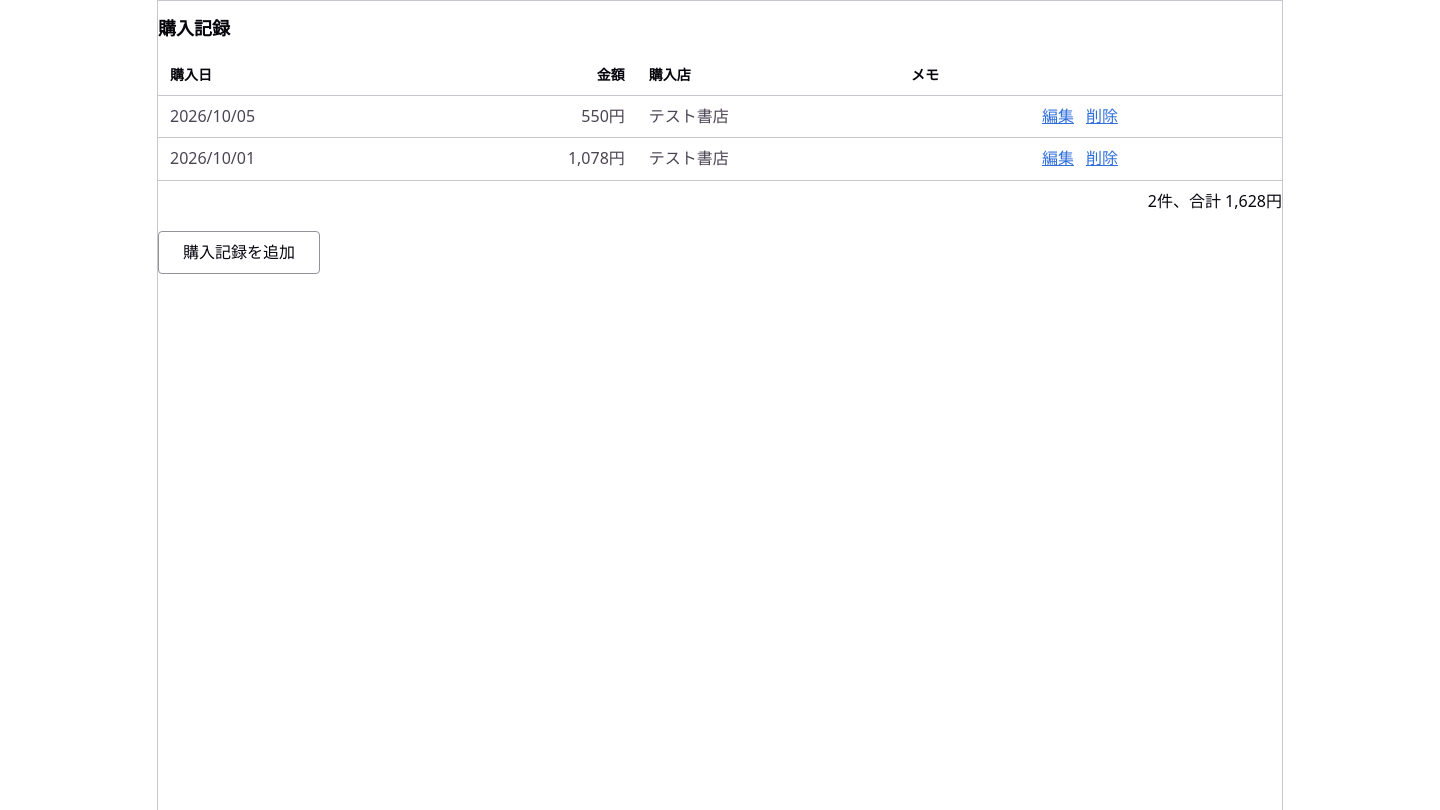
PurchasesSection › 削除 › 「やめる」で確認を閉じ、削除しない
Click the button with aria-label "2026/10/01 の購入記録を削除". click: (1102, 159)
box: [1086,146,1118,172]
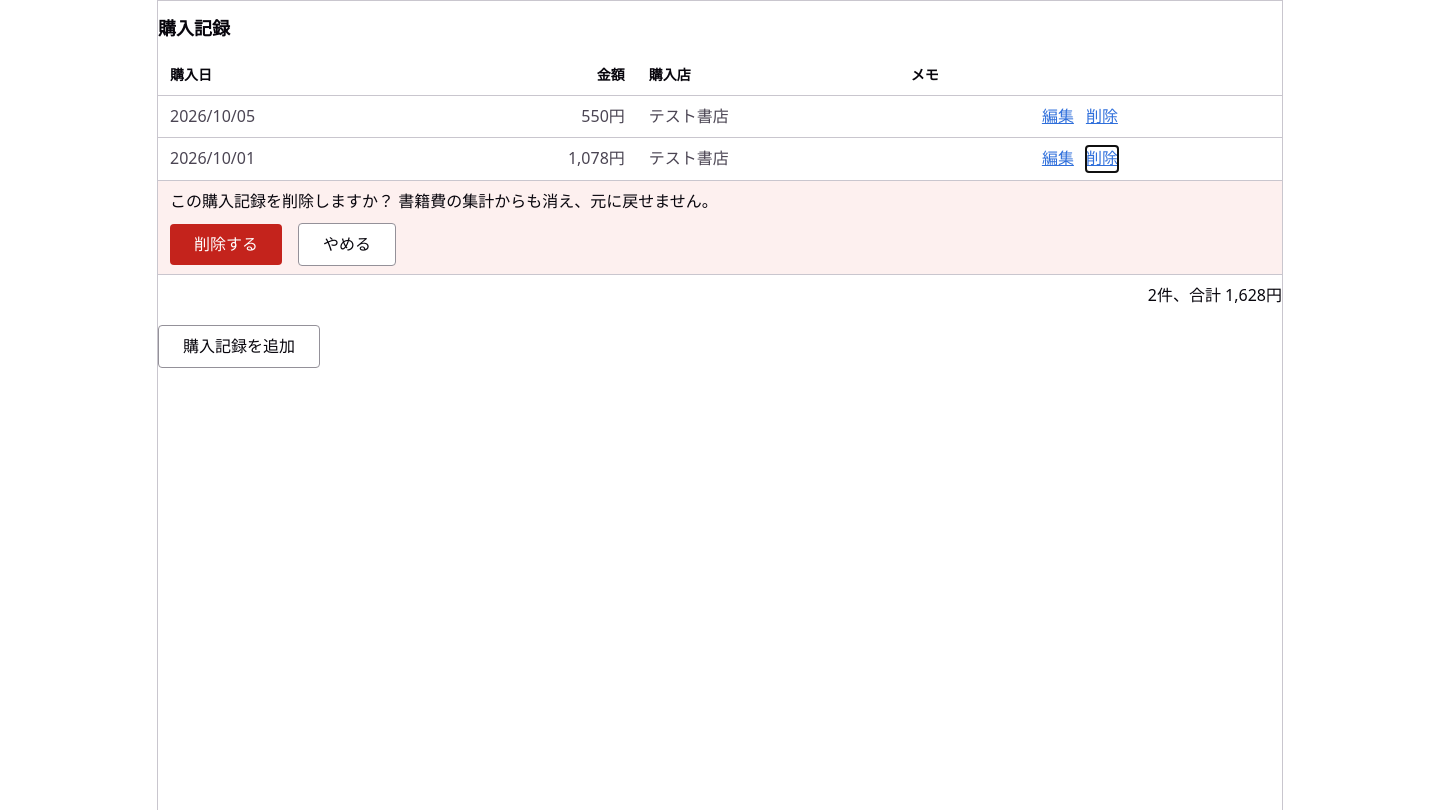
Click the button "やめる". click: (347, 244)
box: [298,223,396,266]
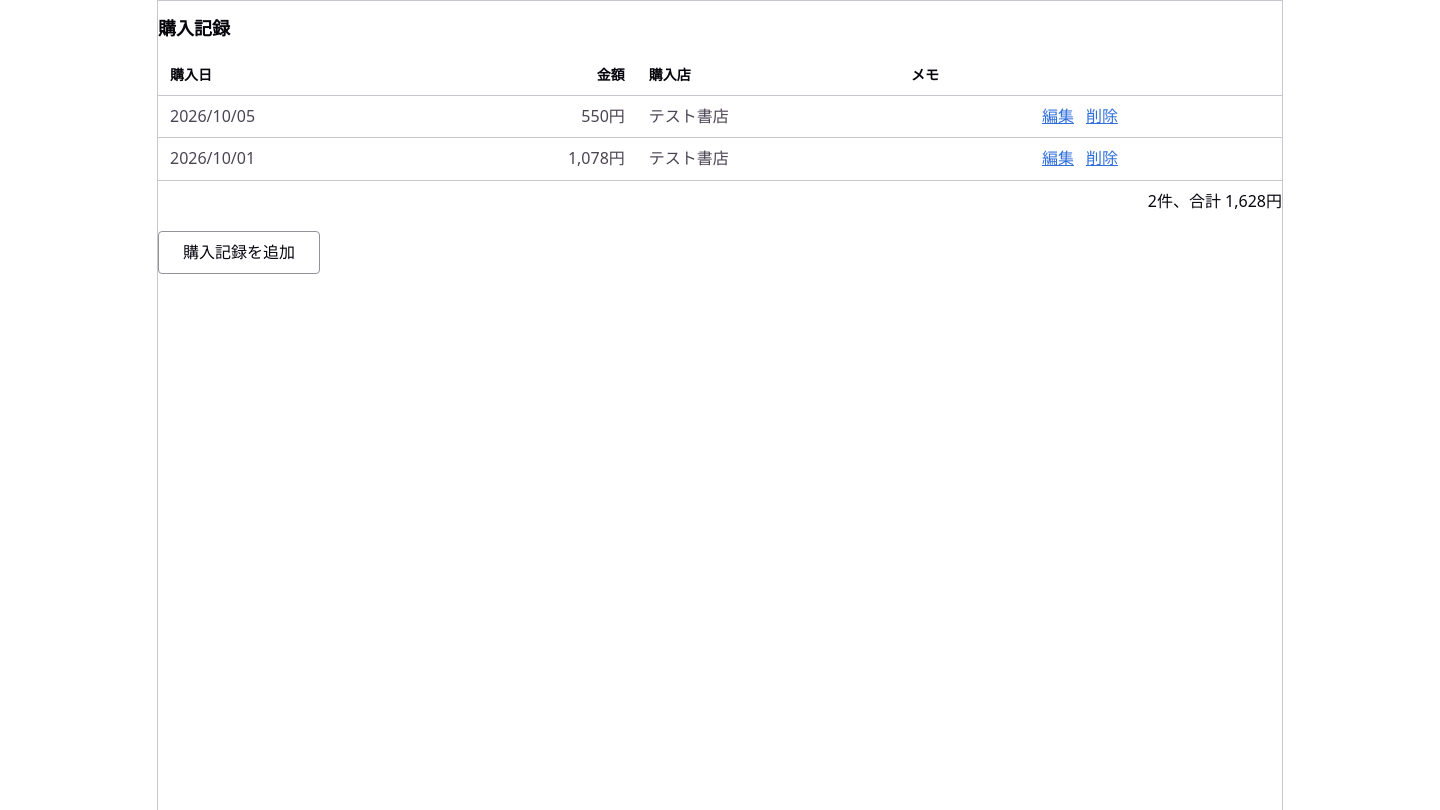
Expected: the text "この購入記録を削除しますか？" is gone
